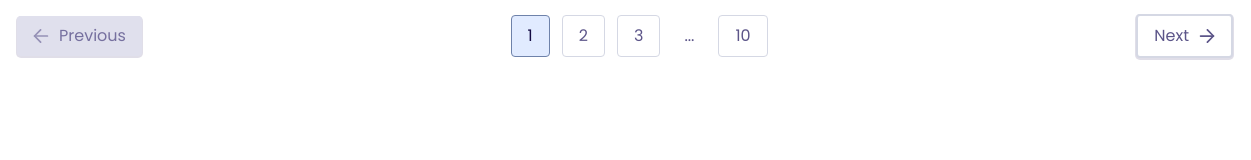
Test: renders PaginationHandler component › base case with dynamic ... 10 pages
Expected: the text "..." is shown once, [684,24,694,48]
Click the button "3" at [639, 36], box [617,15,660,57]
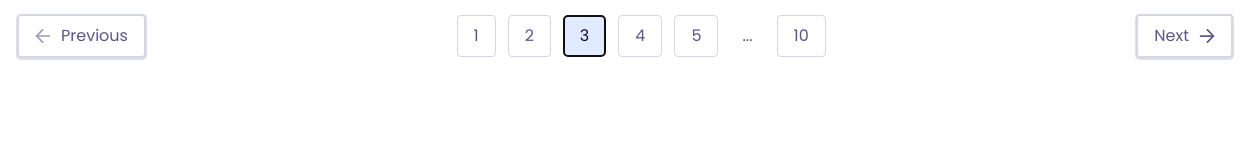
Click the button "5" at [696, 36], box [674,15,718,57]
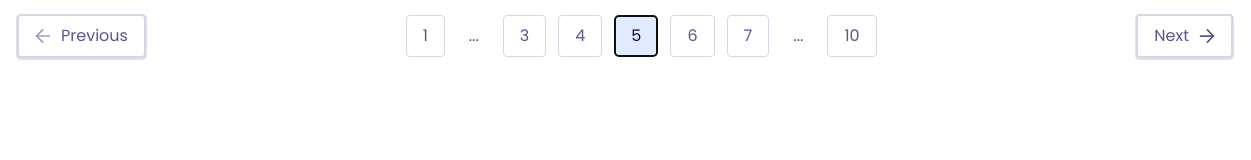
Now the text "..." is shown 2 times, box [469,24,479,48]; [793,24,803,48]
Click the button "10" at [852, 36], box [827,15,877,57]
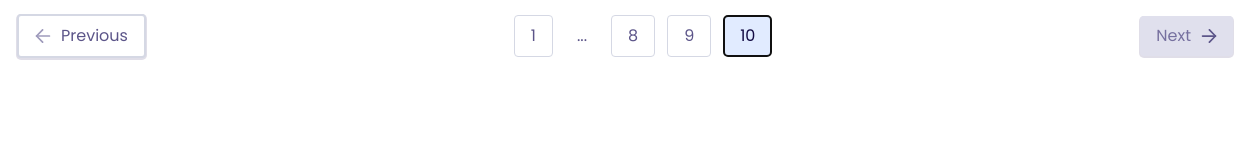
Expected: the number of buttons is 6, [17,14,146,58]; [514,15,553,57]; [611,15,655,57]; [667,15,711,57]; [723,15,772,57]; [1140,16,1233,56]
Now the text "..." is shown once, box [577,24,587,48]
Now the button "Next" is disabled, box [1140,16,1233,56]
